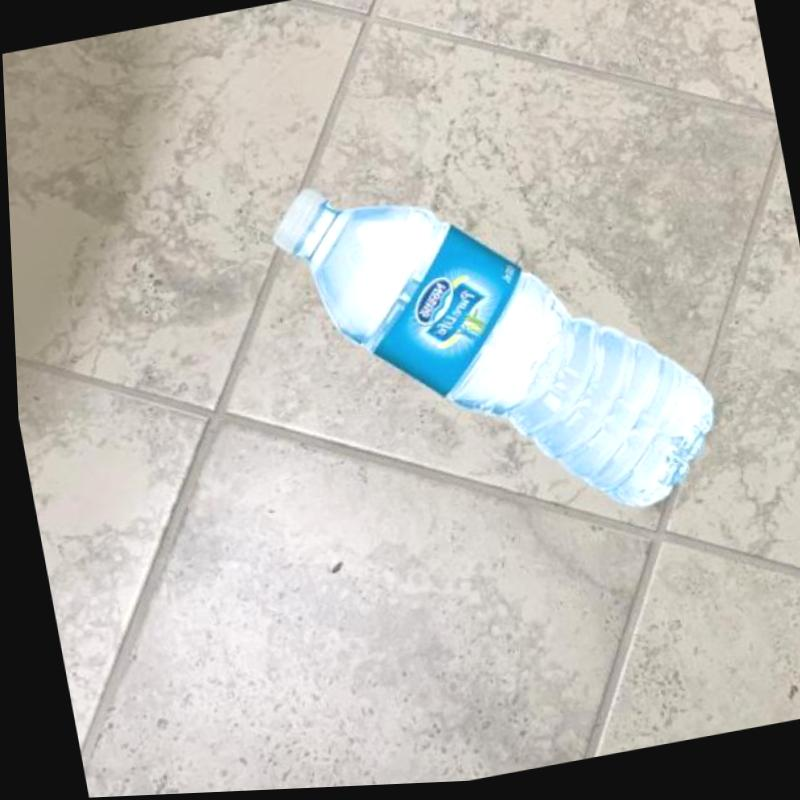botella: (258, 124, 733, 568)
